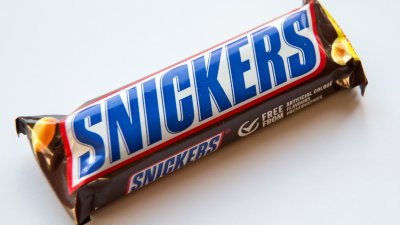snickers: (70, 3, 316, 176), (70, 8, 316, 176), (70, 3, 308, 176), (127, 134, 218, 191), (131, 134, 218, 191)
